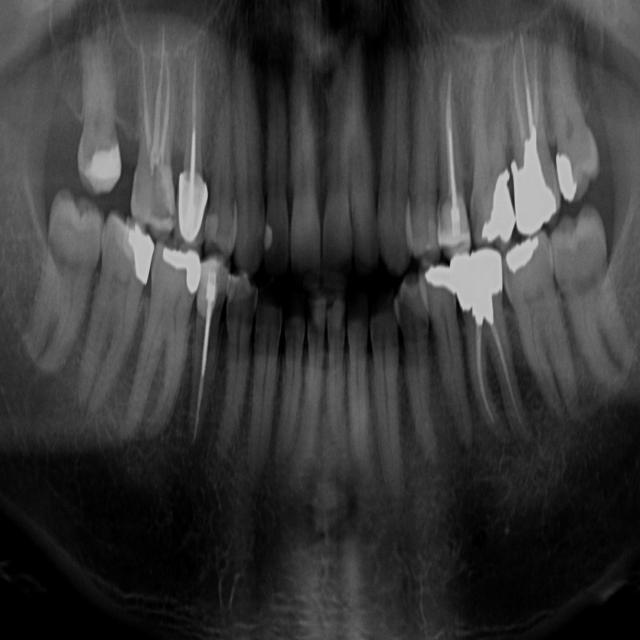dolgu: (483, 166, 513, 237), (77, 136, 121, 182), (120, 226, 158, 276), (554, 146, 584, 204), (422, 257, 458, 298), (166, 246, 197, 291), (511, 239, 552, 273), (253, 218, 279, 255)
kanal-tedavisi: (460, 296, 532, 461), (423, 73, 476, 208), (129, 49, 181, 170), (512, 20, 546, 167), (192, 269, 220, 444), (183, 49, 209, 188)
kaplama: (511, 150, 555, 234), (449, 245, 503, 306), (170, 166, 213, 236)
